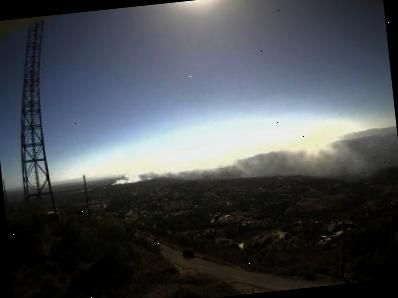smoke: (108, 131, 372, 202)
